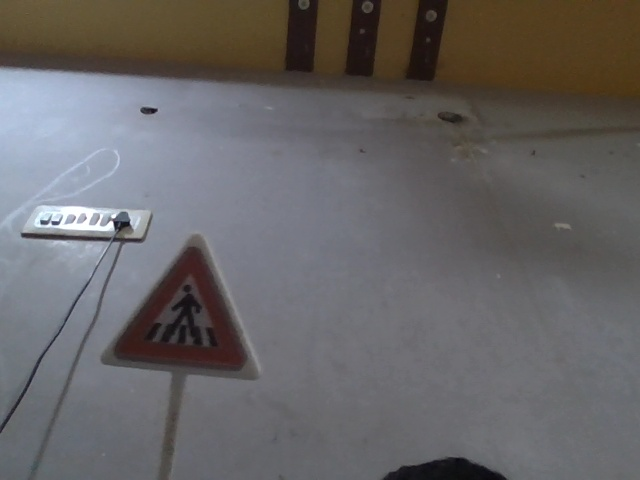crossing: (108, 225, 259, 366)
